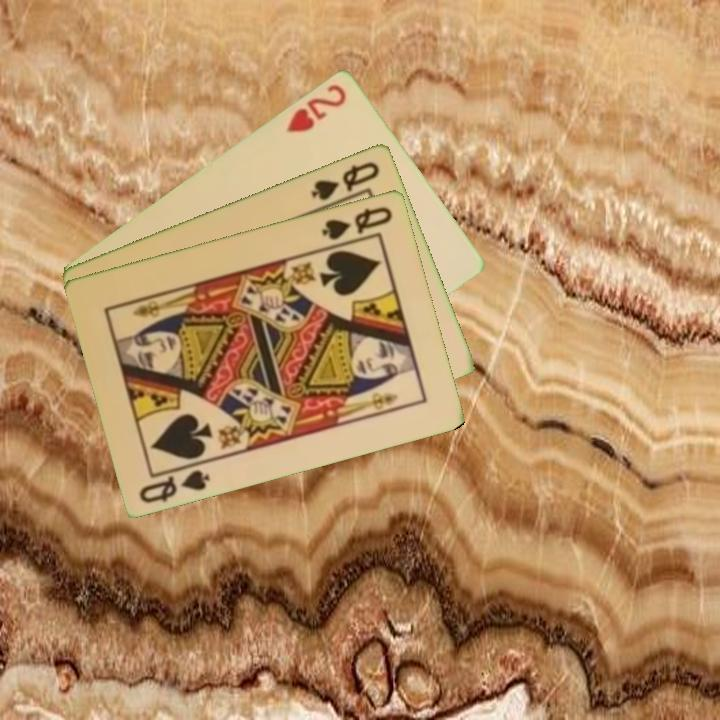2h: (282, 80, 350, 135)
Qs: (307, 157, 383, 203), (318, 202, 396, 243), (136, 465, 214, 506)
